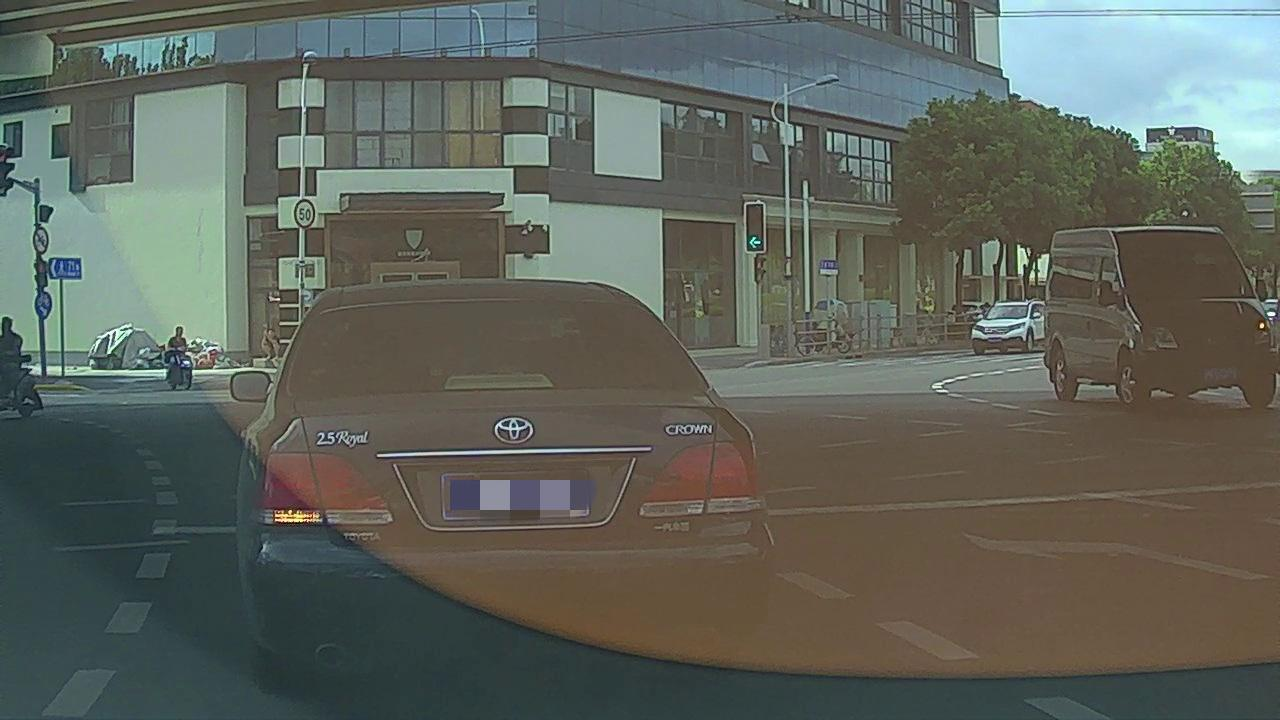traffic_light: (745, 204, 763, 251)
